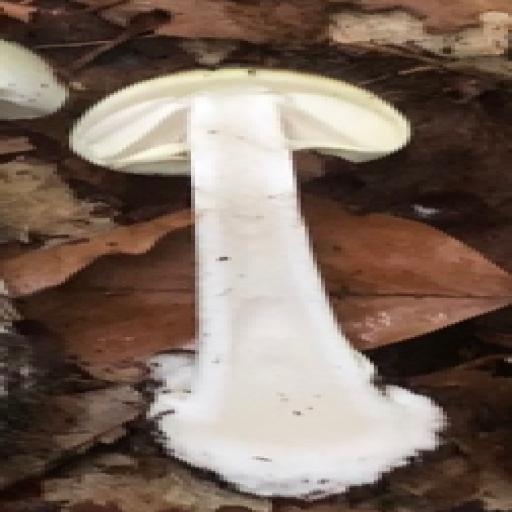Death Cap: (64, 7, 506, 512)
